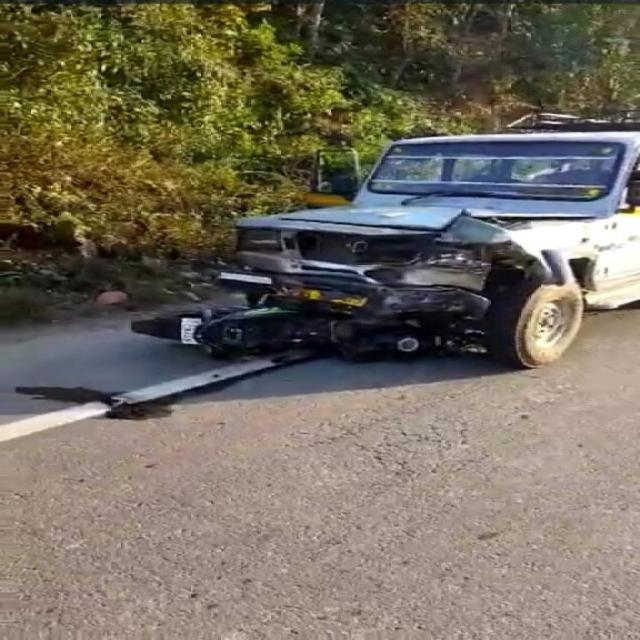accident: (218, 131, 640, 367), (126, 305, 476, 365)
